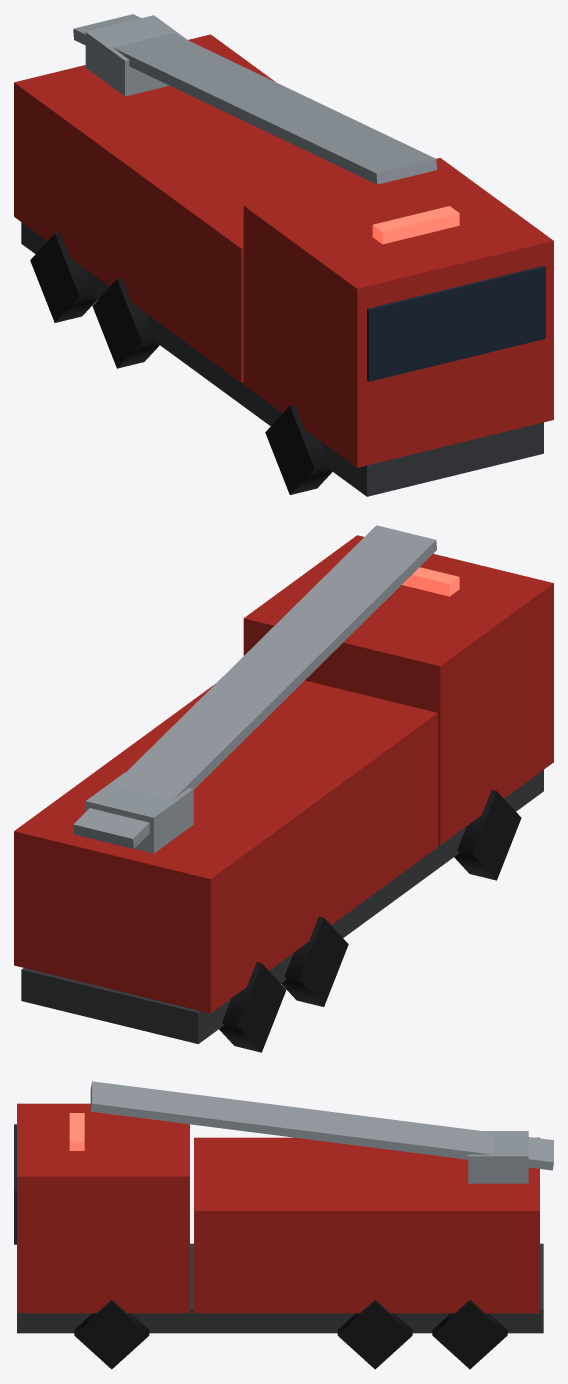
Rendered from veh_ground_fire_truck_a09_lod2.glb.
The picture shows the model from 3 angles, top to bottom: view 1: azimuth 30°, elevation 25°; view 2: azimuth 150°, elevation 25°; view 3: azimuth 270°, elevation 25°; orthographic projection. The views are drawn at different scales.
Visible parts, largest first — view 1: body, ladder, wheel_4, wheel_0, wheel_2; view 2: body, ladder, wheel_0, wheel_2, wheel_4; view 3: body, ladder, wheel_1, wheel_3, wheel_5.
Boxes of the visible parts, x1,y1,x2,y2 form: body: (14,34,553,496); ladder: (73,14,436,184); wheel_4: (265,404,332,494); wheel_0: (30,232,97,322); wheel_2: (92,278,159,368); body: (14,535,553,1044); ladder: (73,525,436,853); wheel_0: (219,962,286,1052); wheel_2: (281,916,348,1006); wheel_4: (454,790,521,880); body: (14,1103,543,1333); ladder: (90,1081,553,1183); wheel_1: (432,1300,507,1369); wheel_3: (337,1300,412,1369); wheel_5: (74,1300,149,1369).
Bounding box in the file's own units: 2.42 × 3.5 × 7.18.
